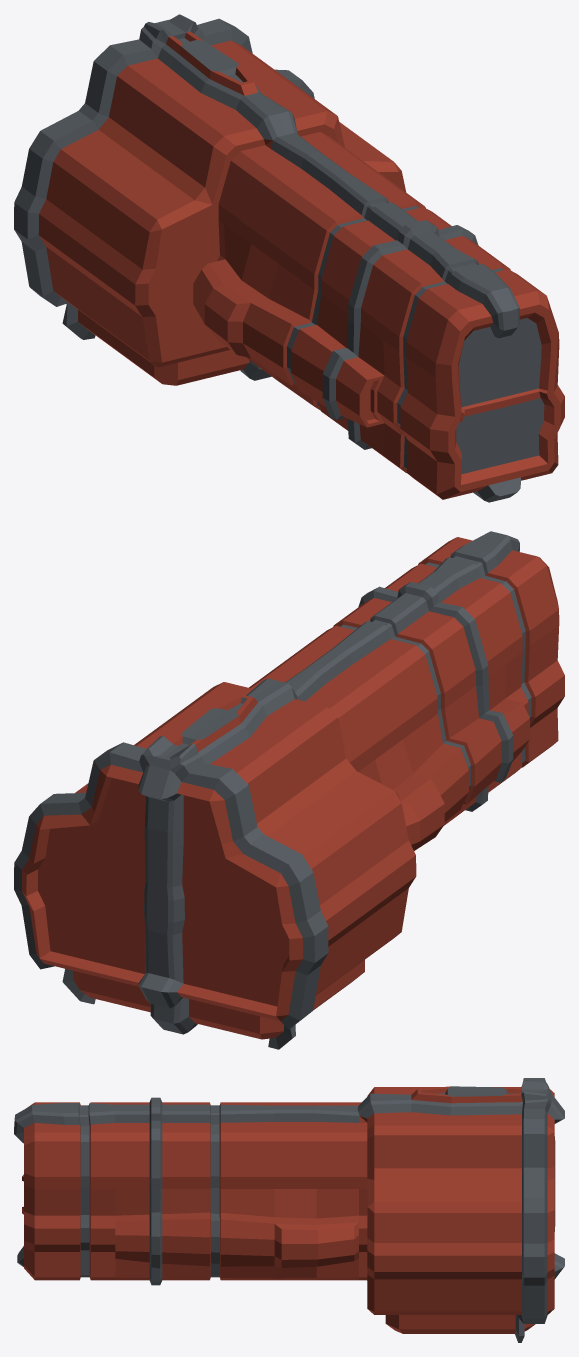
File: Mothership_02_Stern_Red.fbx
3 renders of one model, top to bottom at view 1: azimuth 30°, elevation 25°; view 2: azimuth 150°, elevation 25°; view 3: azimuth 270°, elevation 25°, orthographic. The views are drawn at different scales.
Visible parts, largest first — view 1: Mothership_02_Stern_Red; view 2: Mothership_02_Stern_Red; view 3: Mothership_02_Stern_Red.
Part boxes in pixels (left/top/right/bottom): Mothership_02_Stern_Red: left=14, top=14, right=564, bottom=502; Mothership_02_Stern_Red: left=14, top=531, right=564, bottom=1049; Mothership_02_Stern_Red: left=14, top=1078, right=564, bottom=1342.
Size of the model in its own units: 1233 by 1131 by 2554.
3 materials, 3 textured.
